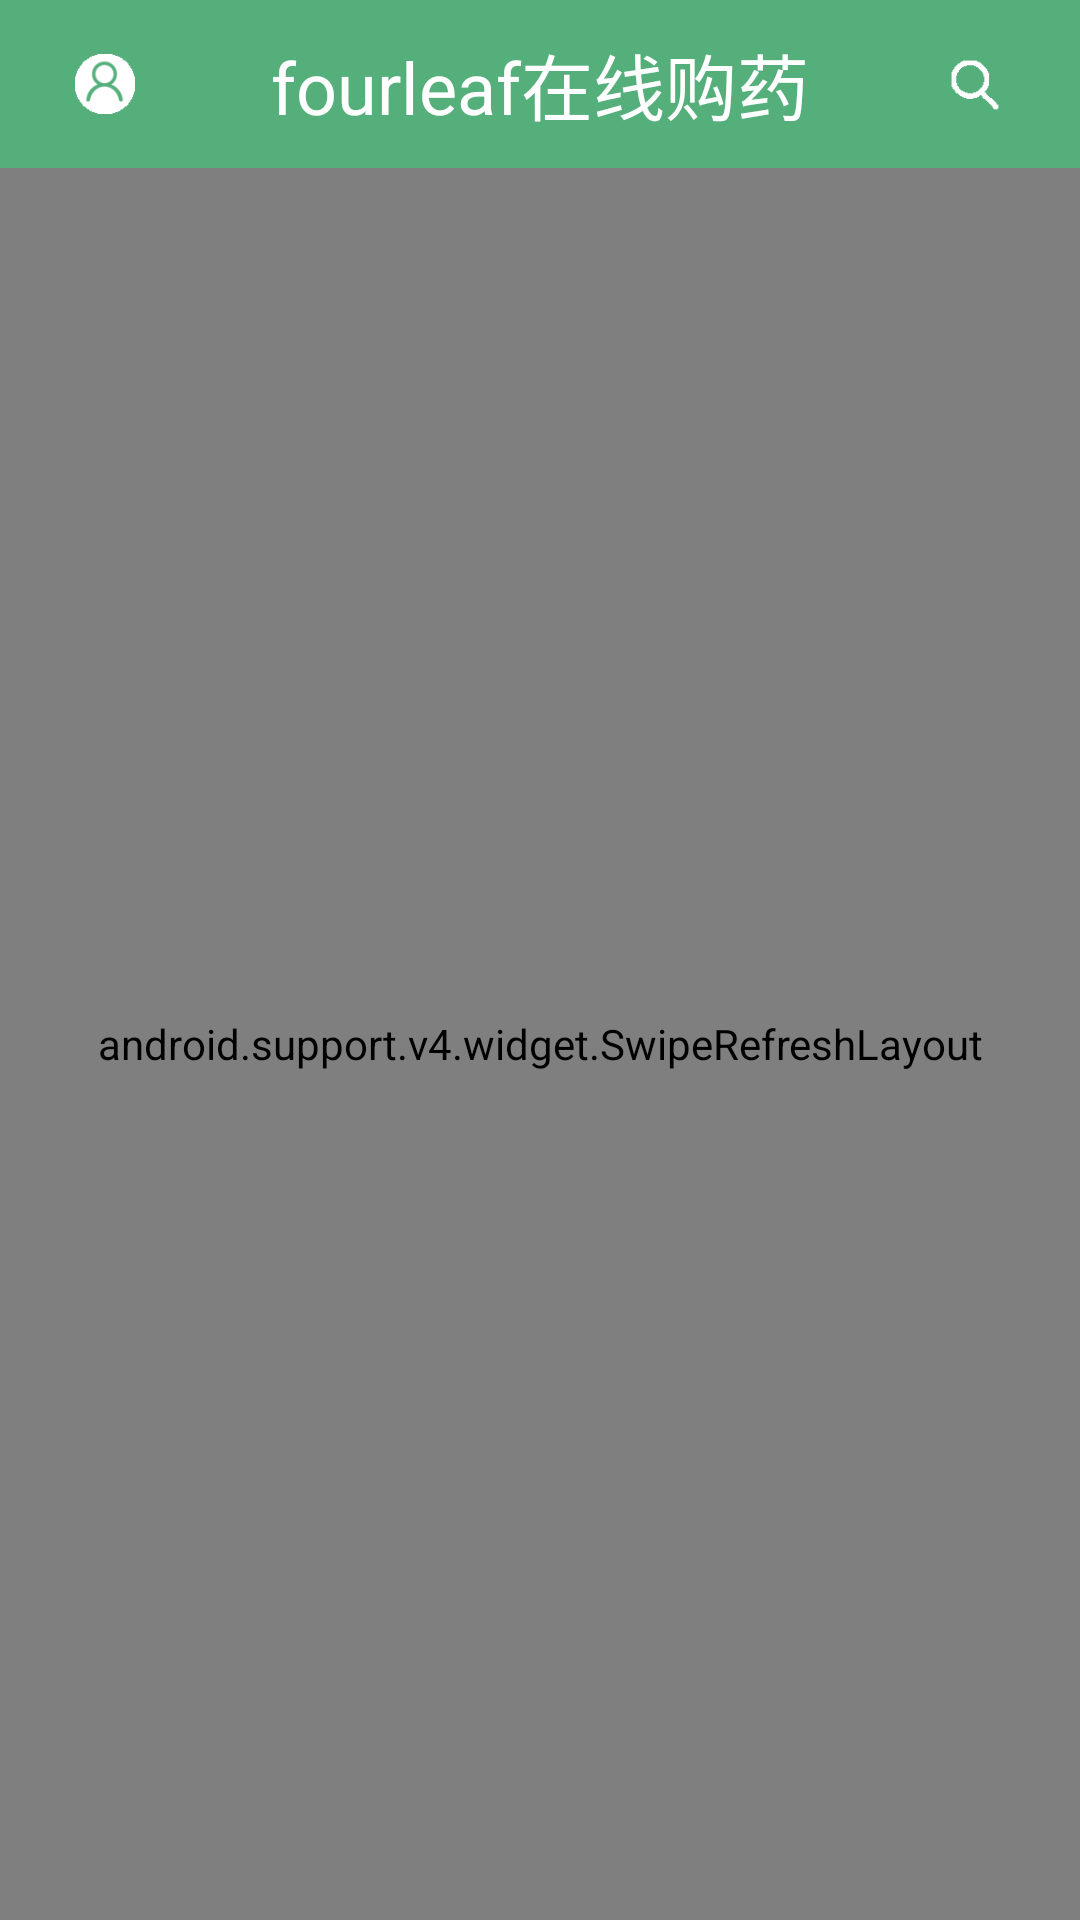

Icons on this 1080w x 1920h Android screen, each with its box as (x1, y1, x2, y2):
search: (951, 60, 999, 110)
user: (75, 54, 135, 114)
